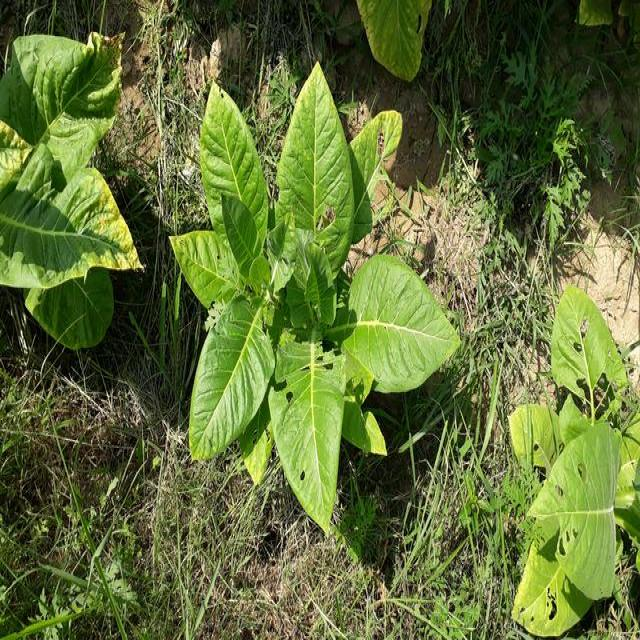crop: (171, 67, 466, 536), (508, 284, 640, 640), (0, 33, 142, 352)
